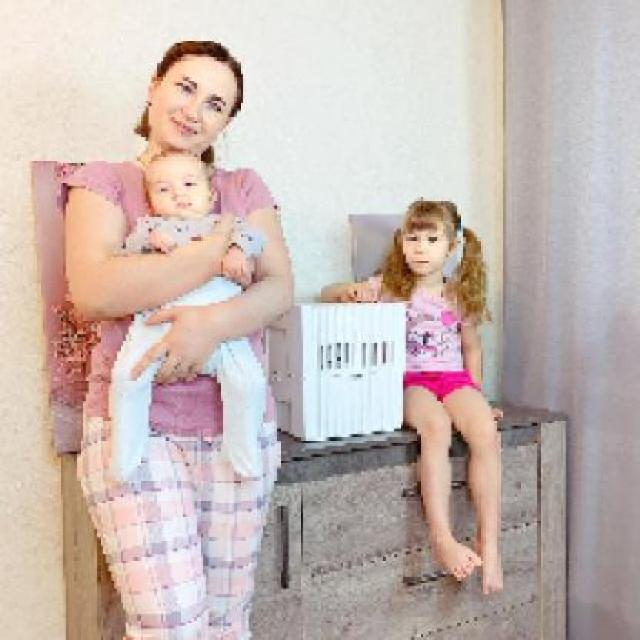child: (322, 198, 504, 596), (105, 146, 268, 480)
